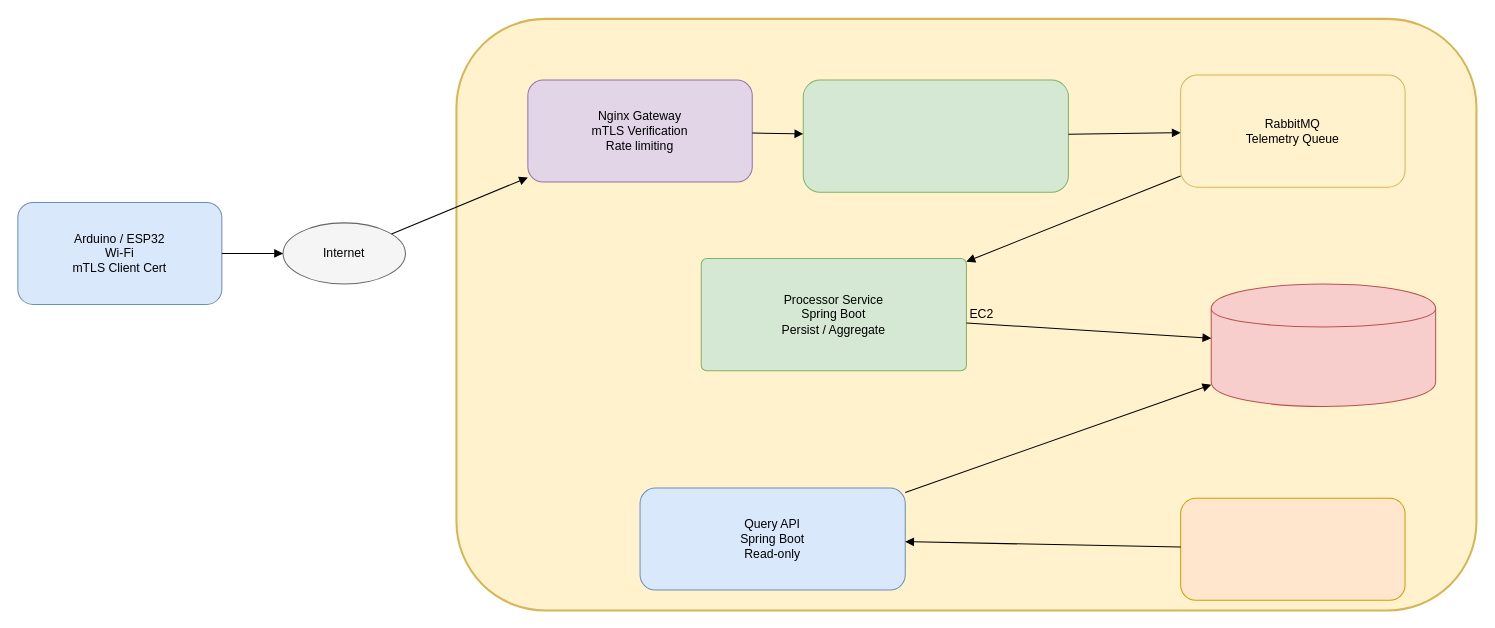
This 1495x628 diagram has some shape labels left out. The centre of each missing label's shape, as x and y in pixels:
"Angular Web App Dashboard / Charts" belongs at point (1292, 548).
"Ingestion Service Spring Boot Validate + Publish" belongs at point (935, 135).
"PostgreSQL Temperature Readings" belongs at point (1323, 344).
